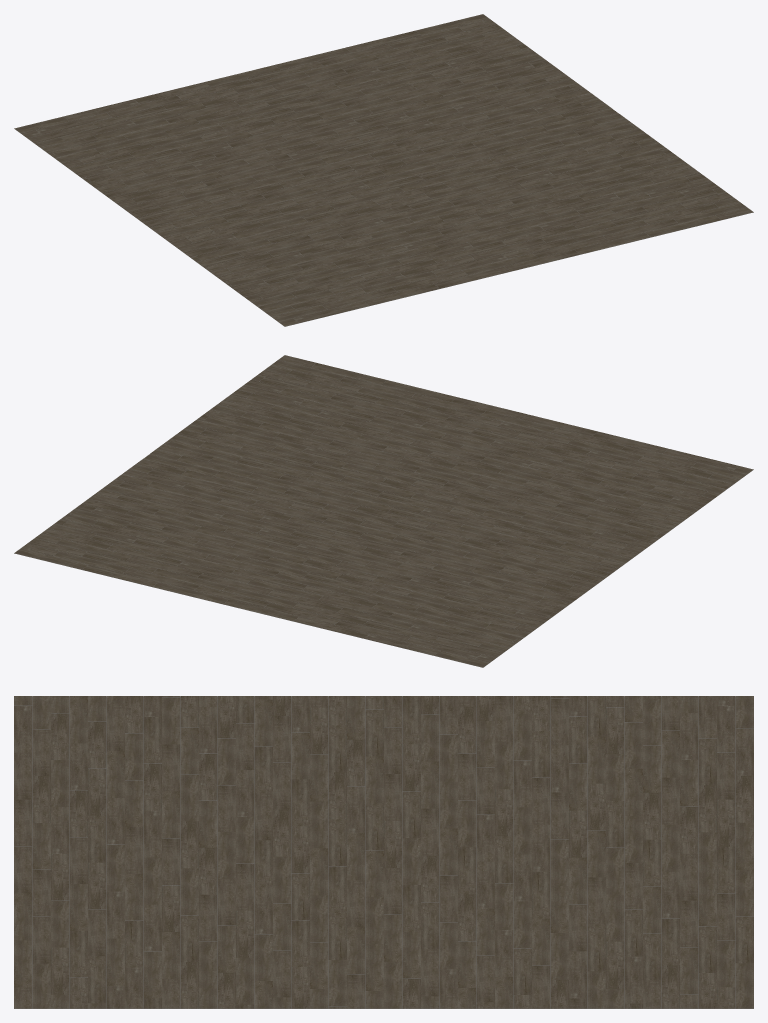
Rendered from liege-marron-20x120.glb.
The picture shows the model from 3 angles, top to bottom: view 1: azimuth 30°, elevation 25°; view 2: azimuth 150°, elevation 25°; view 3: azimuth 270°, elevation 25°; orthographic projection. The views are drawn at different scales.
Parts seen in each view (by area): view 1: Liege Marron; view 2: Liege Marron; view 3: Liege Marron.
Part boxes in pixels (x1,y1,x2,y2): Liege Marron: (14, 14, 753, 326); Liege Marron: (14, 355, 753, 667); Liege Marron: (14, 696, 753, 1008).
Bounding box in the file's own units: 8 × 0.003 × 8.
2 materials, 1 textured.
